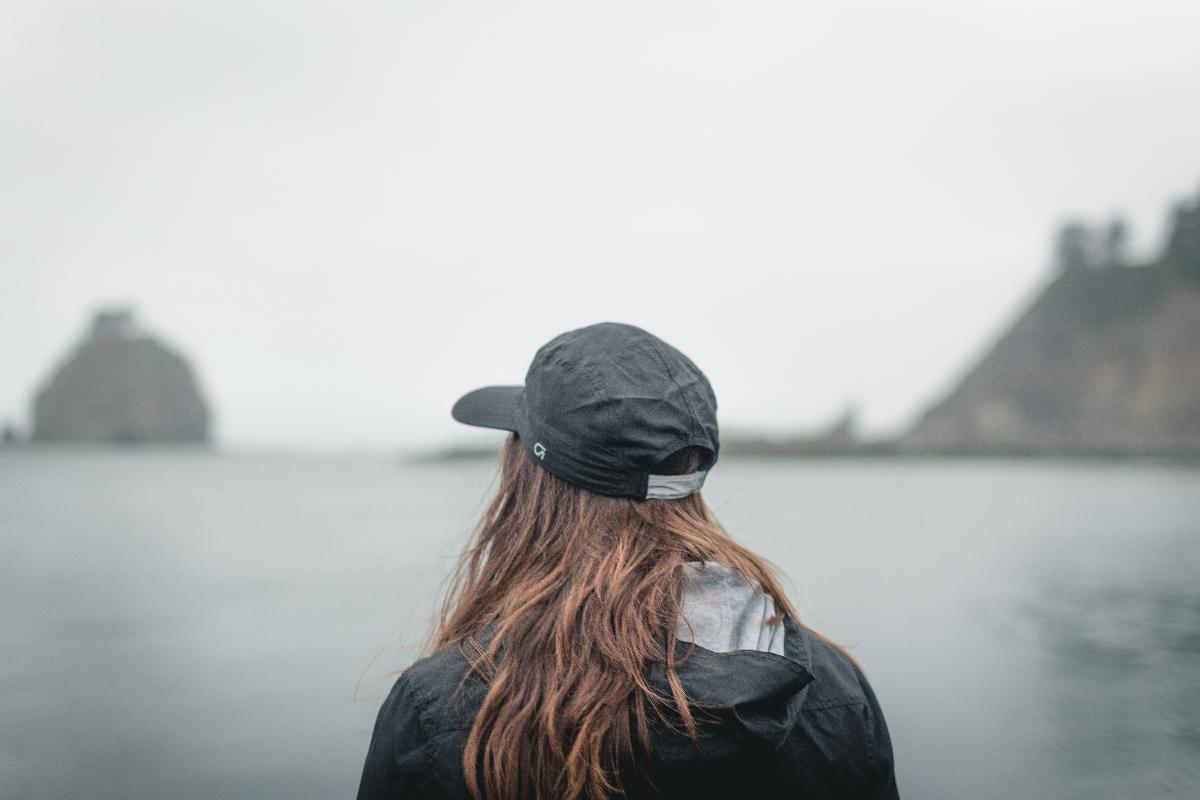Person: (354, 323, 905, 800)
